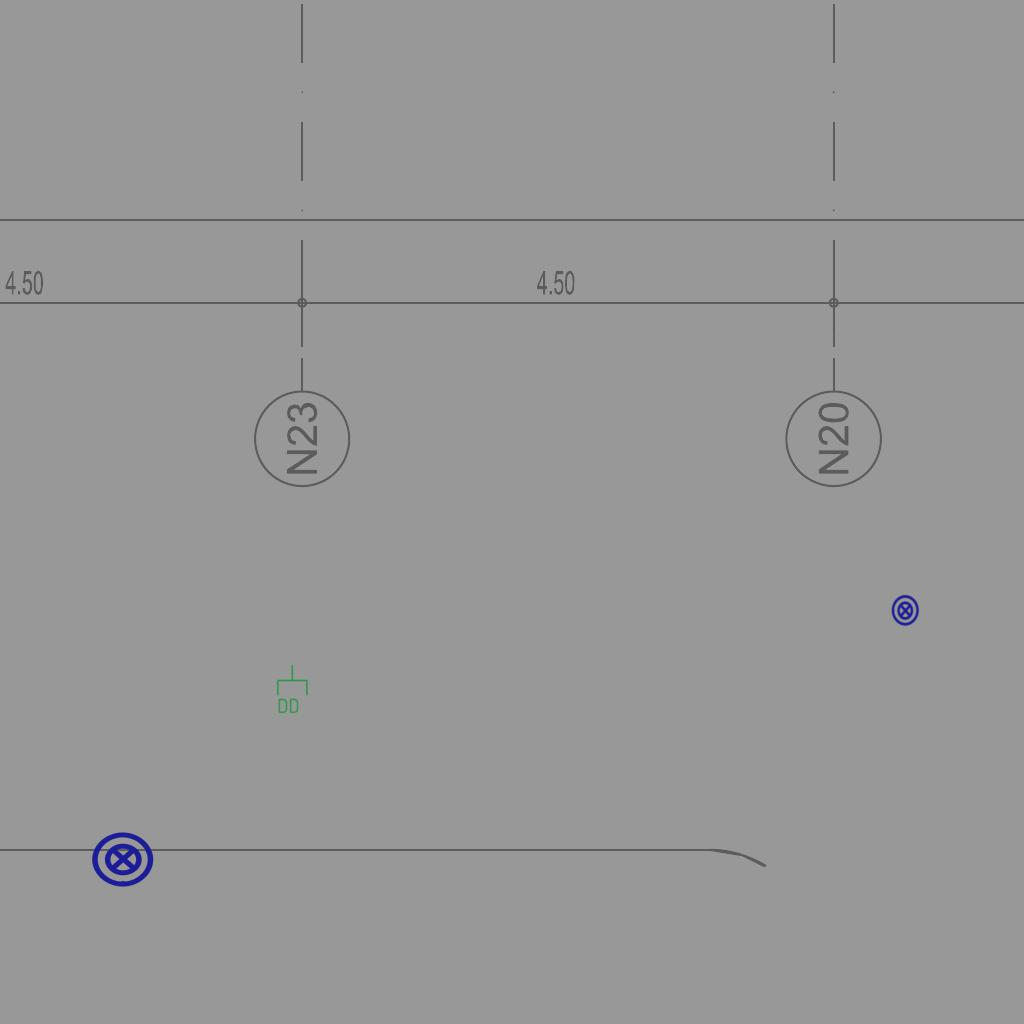Datenanschluss_zweifach: (275, 664, 309, 715)
Taster_beleuchtet: (90, 826, 156, 892), (889, 594, 922, 627)
